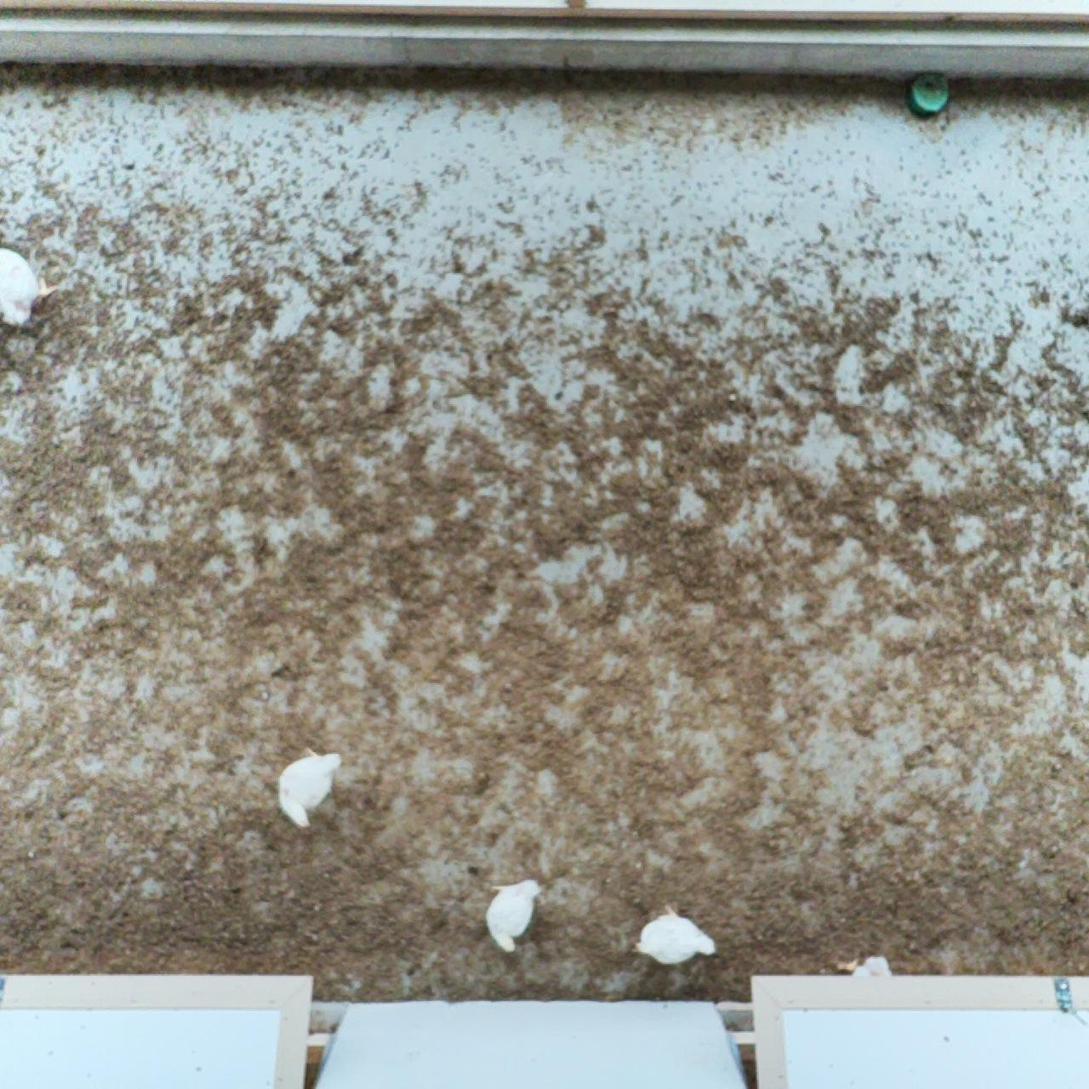chicken: (624, 897, 725, 972), (273, 742, 345, 834), (0, 240, 60, 336), (482, 875, 544, 958), (829, 944, 895, 982)
